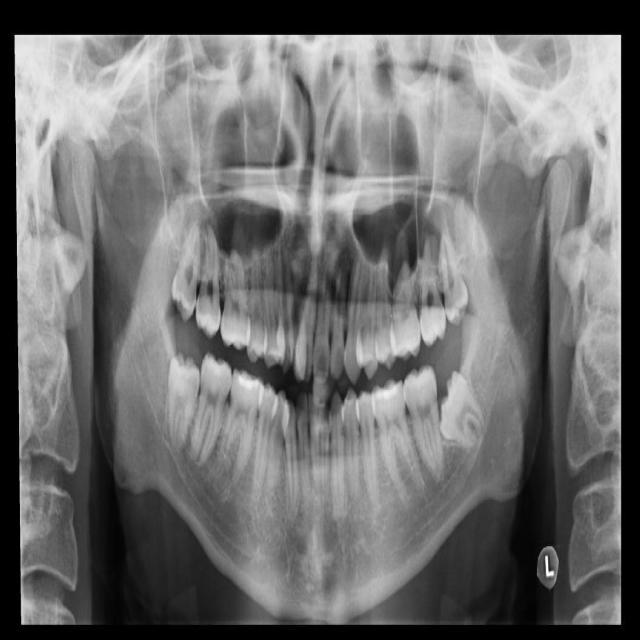3M ESPE Implant: (170, 220, 201, 323)
73: (580, 566, 582, 582)
BioHorizons Implant: (420, 234, 447, 348)
BioLife Implant: (434, 222, 472, 328)
Biomet 3i Implant: (438, 369, 488, 451)
Blue Sky Bio Implant: (401, 364, 445, 480), (403, 392, 404, 402)
Caries: (191, 210, 222, 339)
Implant: (192, 350, 235, 465)
Keystone Dental Implant: (158, 351, 204, 451)
